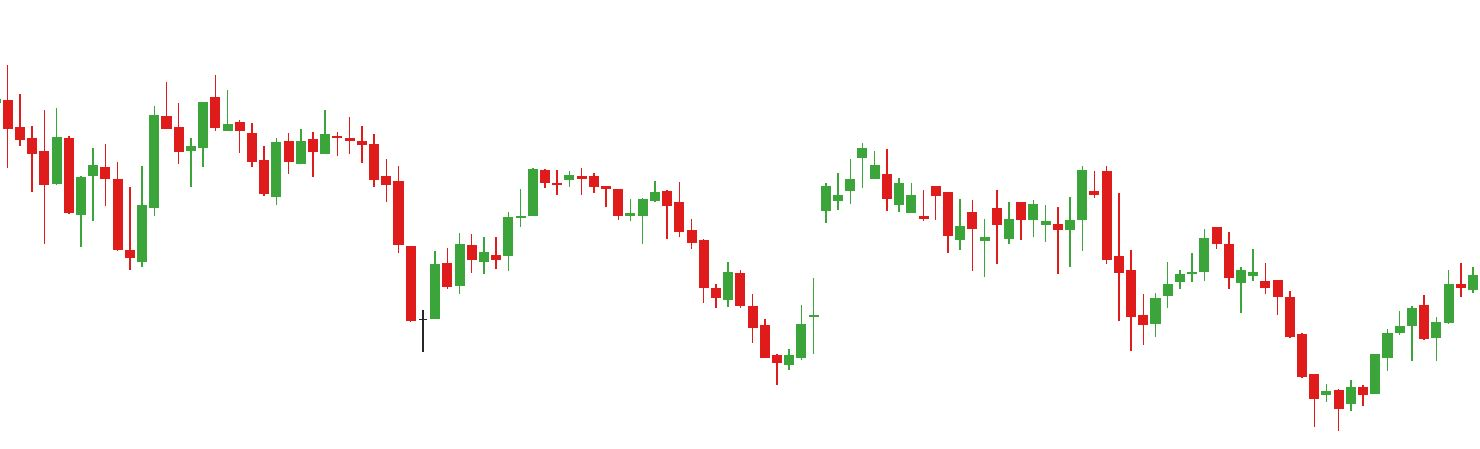sell: (40, 77, 173, 178)
